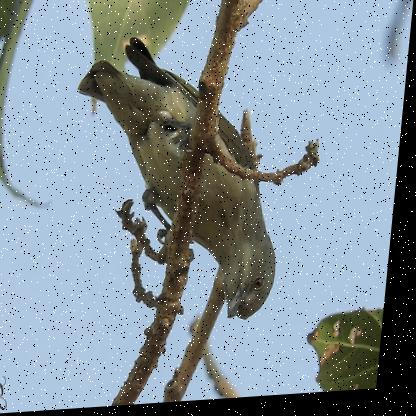Burung: (56, 30, 301, 337)
